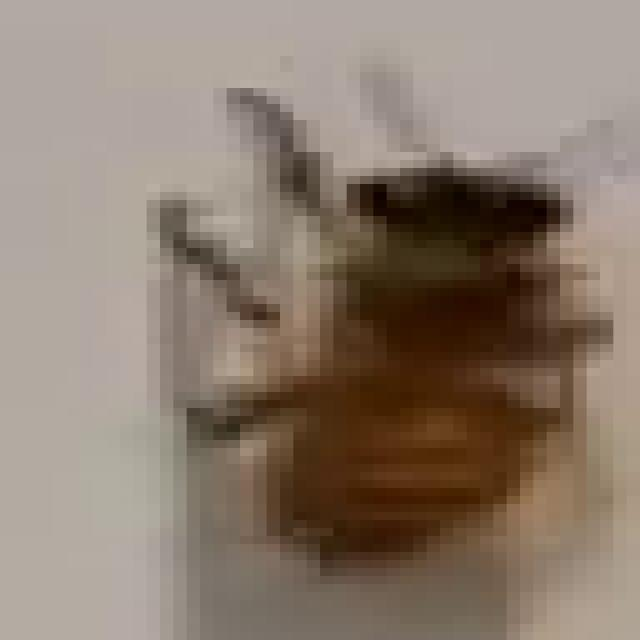honeybee: (175, 74, 606, 578)
